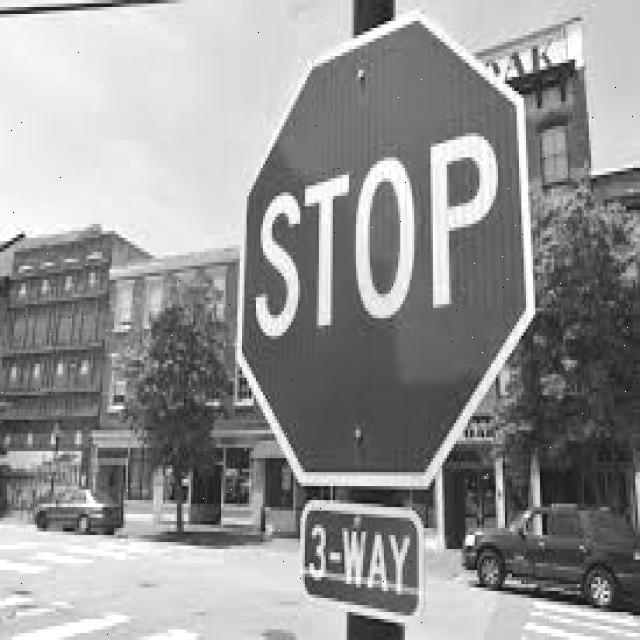stop sign: (241, 13, 541, 617)
